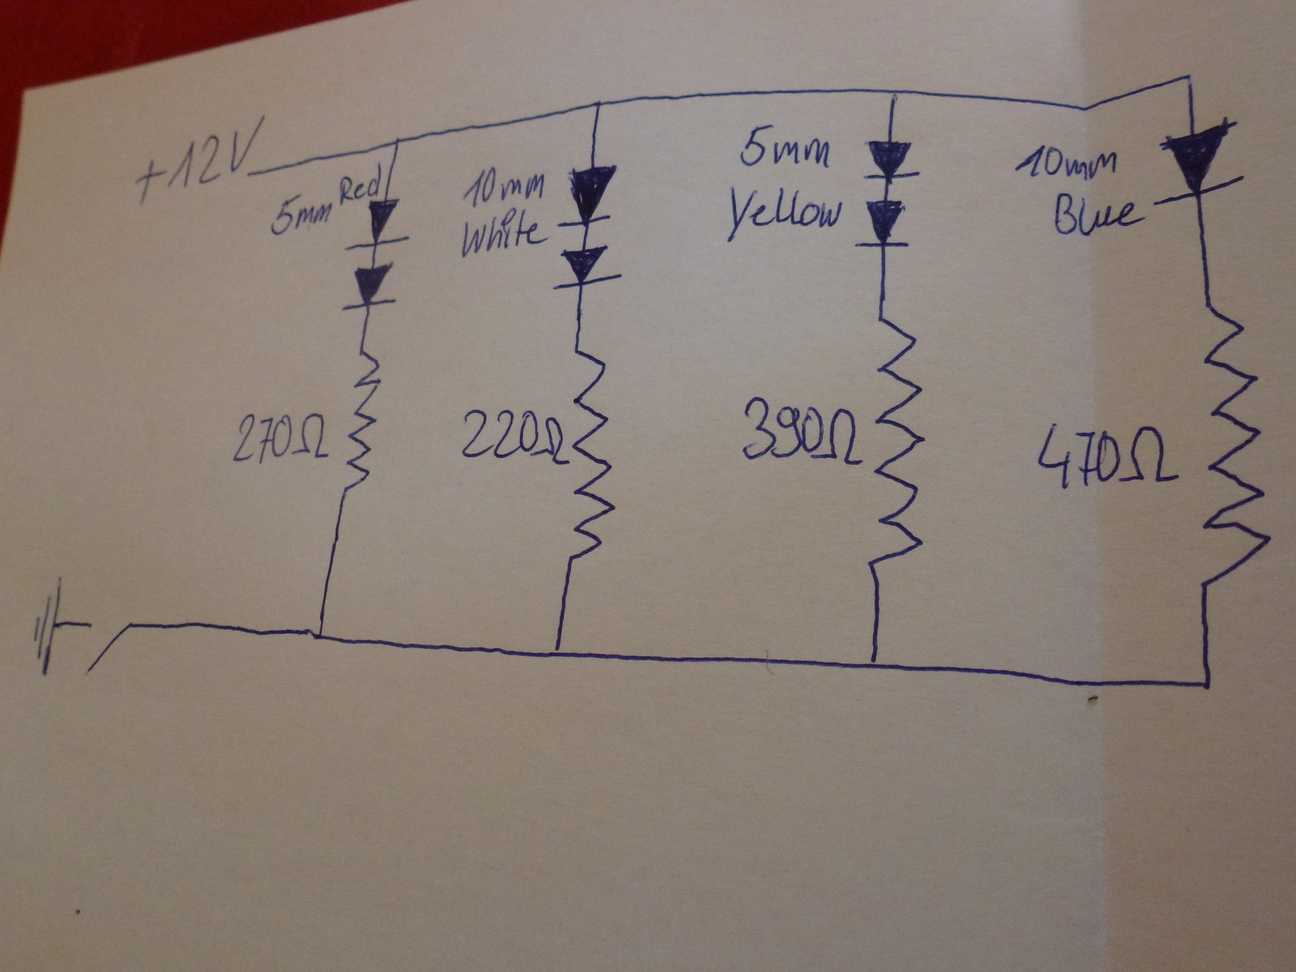diode: (1149, 118, 1250, 206), (554, 161, 621, 230), (341, 197, 413, 253), (553, 236, 628, 290), (339, 260, 399, 313), (851, 197, 911, 249), (861, 134, 923, 184)
gnd: (27, 572, 65, 678)
junction: (1193, 673, 1218, 698), (860, 651, 885, 676), (544, 641, 570, 663), (303, 626, 328, 643), (884, 84, 903, 102), (1179, 68, 1198, 87), (590, 95, 607, 114), (389, 132, 405, 148)
resistor: (1194, 305, 1278, 593), (862, 313, 928, 568), (564, 349, 617, 580), (343, 342, 385, 495)
switch: (79, 614, 142, 675)
terminal: (240, 168, 255, 183)
text: (130, 112, 268, 206), (1029, 417, 1176, 491), (736, 391, 866, 471), (721, 181, 843, 245), (458, 405, 572, 467), (228, 410, 331, 468), (738, 121, 834, 174), (460, 205, 550, 257), (1052, 190, 1147, 238), (1015, 142, 1120, 184), (460, 162, 549, 210), (266, 190, 335, 239), (337, 160, 384, 208)
